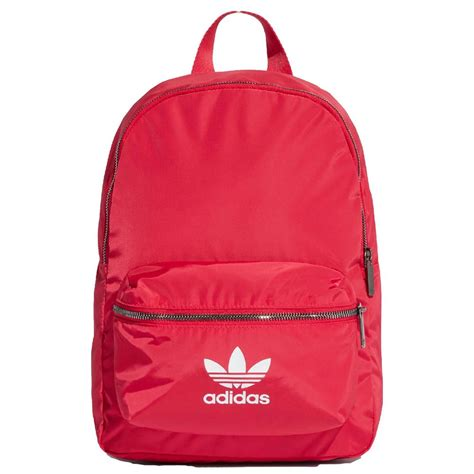nylon: (88, 8, 383, 468)
